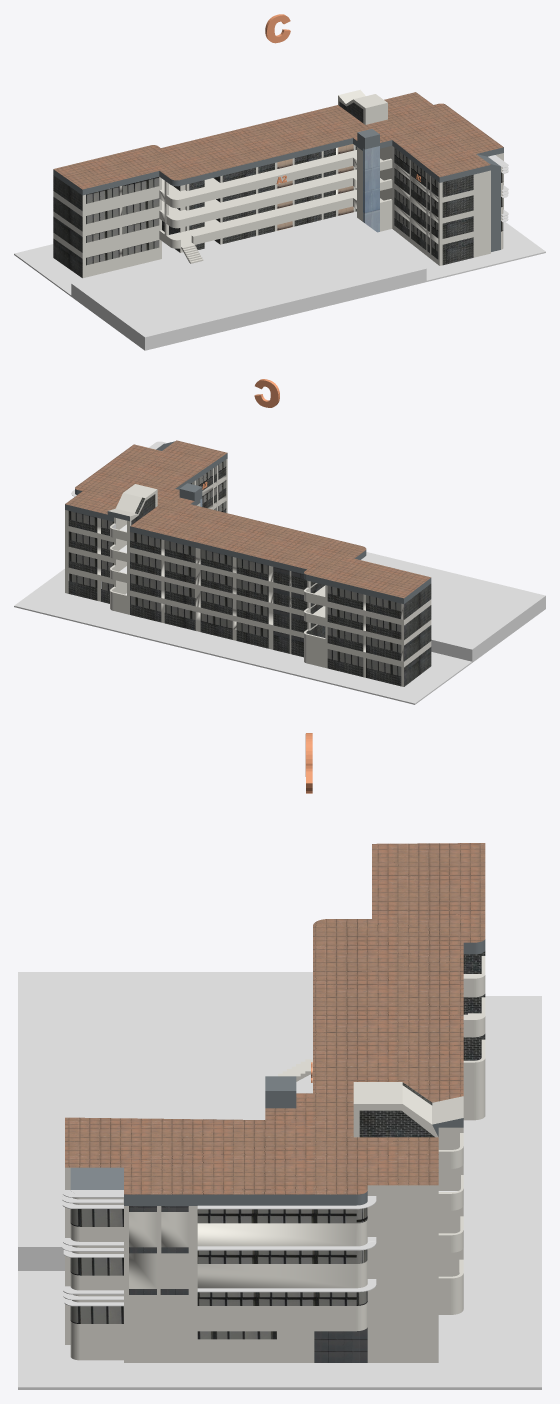
3 views of the same model, one above another, from view 1: azimuth 30°, elevation 25°; view 2: azimuth 150°, elevation 25°; view 3: azimuth 270°, elevation 25° (orthographic). The views are drawn at different scales.
Visible parts, largest first — view 1: Group1, Group3, Group2, C1; view 2: Group1, Group2, Group3, C1; view 3: Group1, Group3, Group2.
Boxes of the visible parts, x1=… form: Group1: x1=53, y1=89, x2=508, y2=278; Group3: x1=71, y1=214, x2=426, y2=349; Group2: x1=14, y1=211, x2=545, y2=350; C1: x1=265, y1=14, x2=290, y2=43; Group1: x1=65, y1=440, x2=431, y2=686; Group2: x1=14, y1=569, x2=545, y2=704; Group3: x1=361, y1=552, x2=545, y2=661; C1: x1=254, y1=379, x2=279, y2=407; Group1: x1=62, y1=843, x2=485, y2=1362; Group3: x1=18, y1=972, x2=312, y2=1270; Group2: x1=18, y1=996, x2=541, y2=1389.
Size of the model in its own units: 99.37 by 54.89 by 56.24.
Materials: 12 (6 with a texture image).
